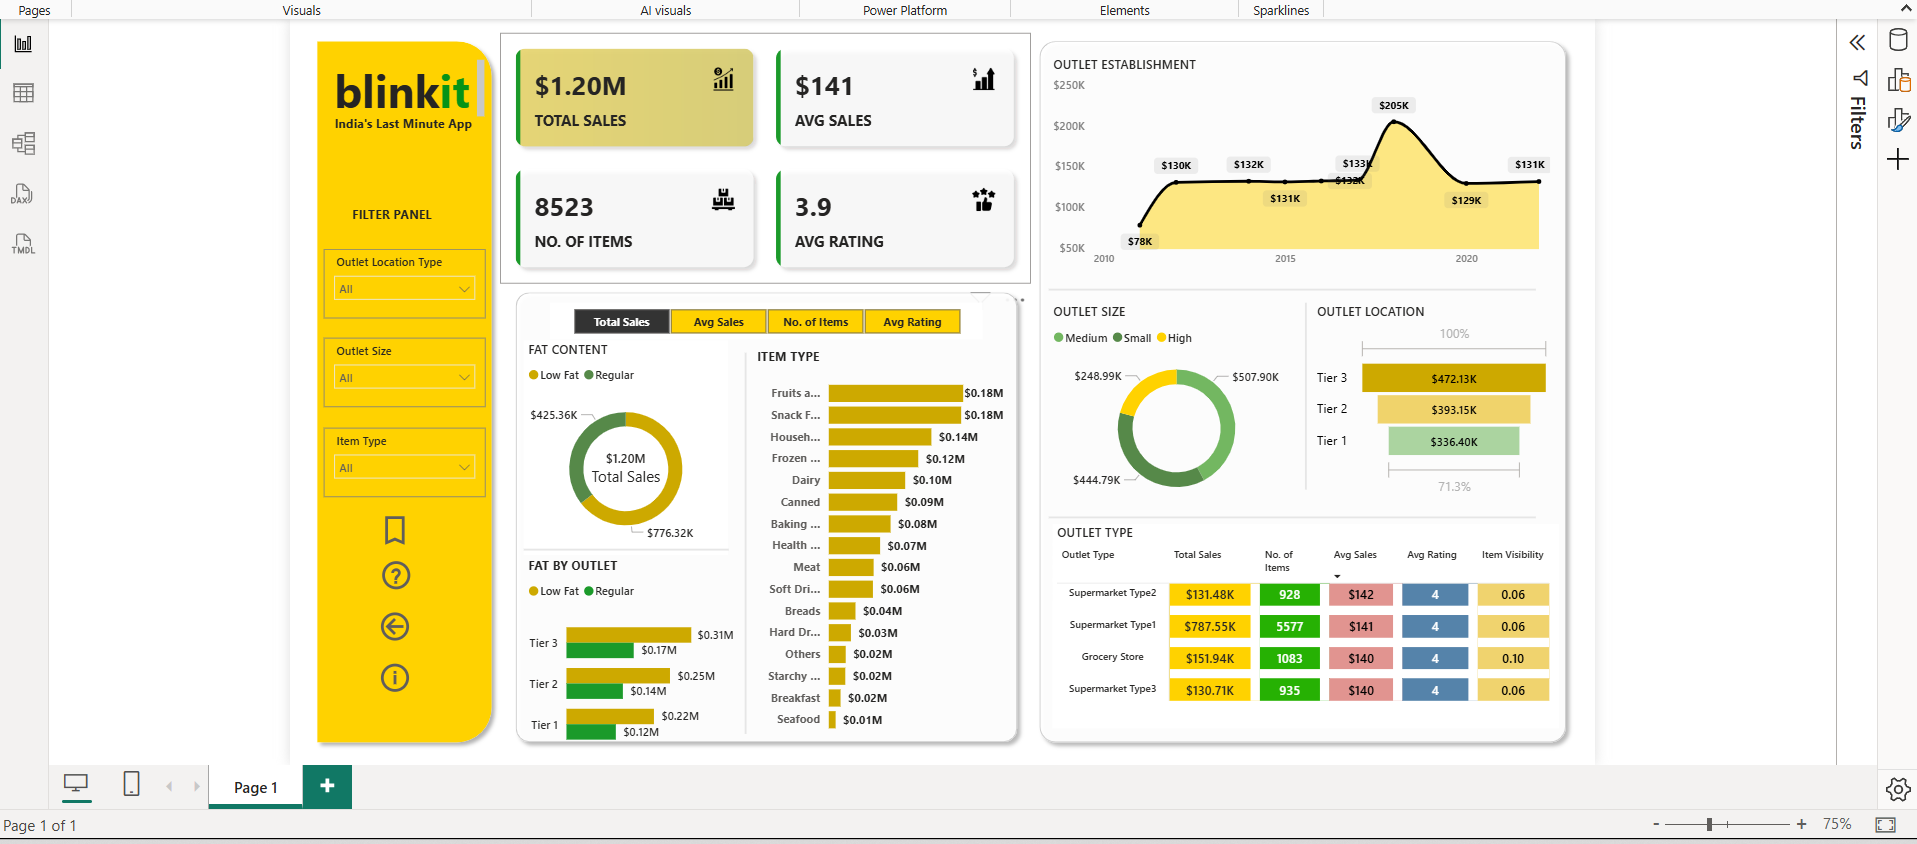

Layout of this report page (visuals, bound fields, positions):
{"tool":"powerbi","page":{"name":"Home","canvas":[1400,800],"ordinal":0},"visuals":[{"type":"shape","box":[20.5,14.2,205.1,770.1],"z":0},{"type":"textbox","box":[42.6,39.5,170.4,80.5],"z":1000},{"type":"textbox","box":[42.6,97.8,165.7,53.7],"z":2000},{"type":"cardVisual","fields":{"Data":["BlinkIT Grocery Data.Total Sales","BlinkIT Grocery Data.Avg Sales","BlinkIT Grocery Data.No. of Items","BlinkIT Grocery Data.Avg Rating"]},"box":[225.7,14.2,569.7,269.8],"z":3000},{"type":"shape","box":[233.5,284,555.5,500.2],"z":4000},{"type":"donutChart","title":"FAT CONTENT","fields":{"Y":["BlinkIT Grocery Data.Total Sales"],"Category":["BlinkIT Grocery Data.Item Fat Content"]},"box":[250.9,344,219.3,230.4],"z":5000},{"type":"slicer","fields":{"Values":["Metrics.Metrics"]},"box":[279.3,304.6,463.9,39.5],"z":6000},{"type":"cardVisual","fields":{"Data":["BlinkIT Grocery Data.Total Sales"]},"box":[304.3,445,112.6,60.3],"z":7000},{"type":"clusteredBarChart","title":"FAT BY OUTLET","fields":{"Y":["BlinkIT Grocery Data.Total Sales"],"Category":["BlinkIT Grocery Data.Outlet Location Type"],"Series":["BlinkIT Grocery Data.Item Fat Content"]},"box":[250.9,576,230.4,220.9],"z":8000},{"type":"shape","box":[481.2,357.9,14.7,408.8],"z":9000},{"type":"shape","box":[250.7,563,219.8,12.1],"z":10000},{"type":"barChart","title":"ITEM TYPE","fields":{"Y":["BlinkIT Grocery Data.Total Sales"],"Category":["BlinkIT Grocery Data.Item Type"]},"box":[495.5,351.9,274.6,422.9],"z":11000},{"type":"shape","box":[795.3,14.2,582.3,770.1],"z":12000},{"type":"lineChart","title":"OUTLET ESTABLISHMENT","fields":{"Category":["BlinkIT Grocery Data.Outlet Establishment Year"],"Y":["BlinkIT Grocery Data.Total Sales"]},"box":[814.3,39.5,542.8,235.1],"z":12001},{"type":"shape","box":[813.7,284.2,522.8,12.1],"z":12002},{"type":"donutChart","title":"OUTLET SIZE","fields":{"Y":["BlinkIT Grocery Data.Total Sales"],"Category":["BlinkIT Grocery Data.Outlet Size"]},"box":[814.3,304.6,274.6,224.1],"z":12003},{"type":"shape","box":[1082.5,304.6,12.6,200.4],"z":12004},{"type":"funnel","title":"OUTLET LOCATION","fields":{"Category":["BlinkIT Grocery Data.Outlet Location Type"],"Y":["BlinkIT Grocery Data.Total Sales"]},"box":[1096.7,304.6,260.4,211.5],"z":12005},{"type":"shape","box":[814.3,528.6,522.3,12.6],"z":12006},{"type":"pivotTable","title":"OUTLET TYPE","fields":{"Rows":["BlinkIT Grocery Data.Outlet Type"],"Values":["BlinkIT Grocery Data.Total Sales","BlinkIT Grocery Data.No. of Items","BlinkIT Grocery Data.Avg Sales","BlinkIT Grocery Data.Avg Rating","Avg(BlinkIT Grocery Data.Item Visibility)"]},"box":[817.4,541.3,542.8,219.3],"z":12007},{"type":"slicer","fields":{"Values":["BlinkIT Grocery Data.Outlet Location Type"]},"box":[36.3,246.2,173.6,74.2],"z":12008},{"type":"slicer","fields":{"Values":["BlinkIT Grocery Data.Outlet Size"]},"box":[36.3,342.4,173.6,74.2],"z":12009},{"type":"slicer","fields":{"Values":["BlinkIT Grocery Data.Item Type"]},"box":[36.3,438.7,173.6,74.2],"z":12010},{"type":"textbox","box":[61.5,195.7,104.1,39.5],"z":12011},{"type":"actionButton","box":[92.5,686.3,41.6,40.2],"z":12012},{"type":"actionButton","box":[92.5,528.2,100.5,40.2],"z":12013},{"type":"actionButton","box":[93.8,576.4,100.5,40.2],"z":12014},{"type":"actionButton","box":[92.5,631.4,100.5,40.2],"z":12015}]}

Visuals, with their boxes on the page's 1400x800 design canvas (x1, y1, x2, y2). These are canvas units, not pixel positions in the 1917x844 screenshot, which may show the page scaled, cropped or inside an application window:
shape: <bbox>20, 14, 226, 784</bbox>
textbox: <bbox>43, 40, 213, 120</bbox>
textbox: <bbox>43, 98, 208, 152</bbox>
cardVisual - BlinkIT Grocery Data.Total Sales x BlinkIT Grocery Data.Avg Sales: <bbox>226, 14, 795, 284</bbox>
shape: <bbox>234, 284, 789, 784</bbox>
"FAT CONTENT" donutChart: <bbox>251, 344, 470, 574</bbox>
slicer - Metrics.Metrics: <bbox>279, 305, 743, 344</bbox>
cardVisual - BlinkIT Grocery Data.Total Sales: <bbox>304, 445, 417, 505</bbox>
"FAT BY OUTLET" clusteredBarChart: <bbox>251, 576, 481, 797</bbox>
shape: <bbox>481, 358, 496, 767</bbox>
shape: <bbox>251, 563, 470, 575</bbox>
"ITEM TYPE" barChart: <bbox>496, 352, 770, 775</bbox>
shape: <bbox>795, 14, 1378, 784</bbox>
"OUTLET ESTABLISHMENT" lineChart: <bbox>814, 40, 1357, 275</bbox>
shape: <bbox>814, 284, 1336, 296</bbox>
"OUTLET SIZE" donutChart: <bbox>814, 305, 1089, 529</bbox>
shape: <bbox>1082, 305, 1095, 505</bbox>
"OUTLET LOCATION" funnel: <bbox>1097, 305, 1357, 516</bbox>
shape: <bbox>814, 529, 1337, 541</bbox>
"OUTLET TYPE" pivotTable: <bbox>817, 541, 1360, 761</bbox>
slicer - BlinkIT Grocery Data.Outlet Location Type: <bbox>36, 246, 210, 320</bbox>
slicer - BlinkIT Grocery Data.Outlet Size: <bbox>36, 342, 210, 417</bbox>
slicer - BlinkIT Grocery Data.Item Type: <bbox>36, 439, 210, 513</bbox>
textbox: <bbox>62, 196, 166, 235</bbox>
actionButton: <bbox>92, 686, 134, 726</bbox>
actionButton: <bbox>92, 528, 193, 568</bbox>
actionButton: <bbox>94, 576, 194, 617</bbox>
actionButton: <bbox>92, 631, 193, 672</bbox>
